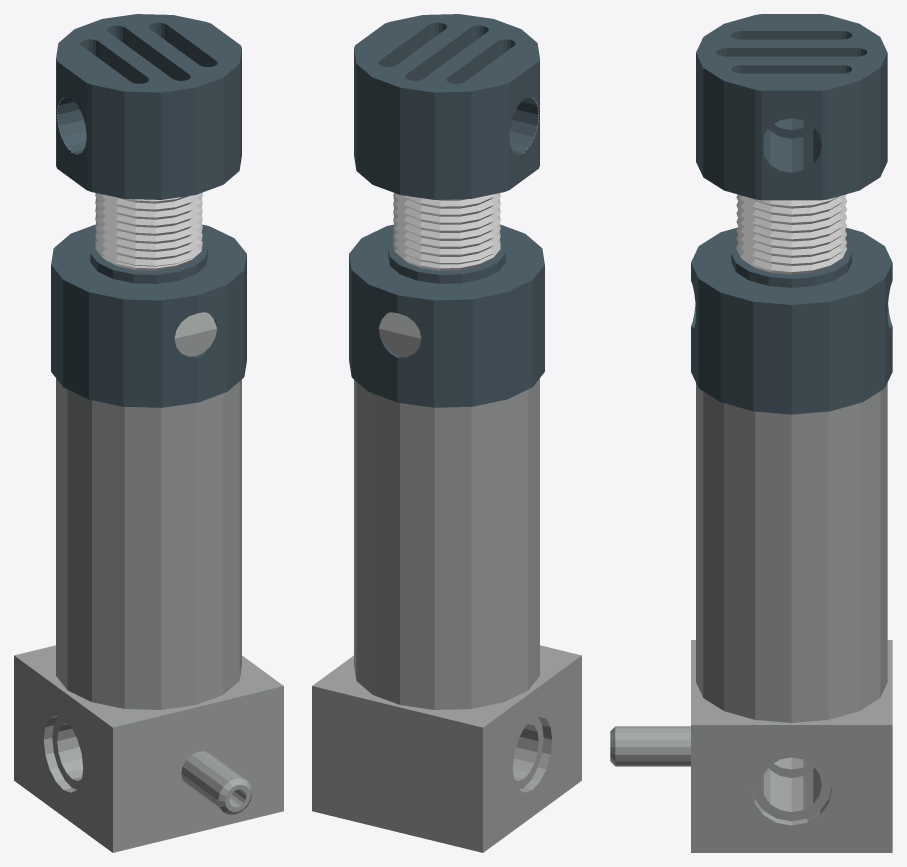
3 renders of one model, left to right at view 1: azimuth 30°, elevation 25°; view 2: azimuth 150°, elevation 25°; view 3: azimuth 270°, elevation 25°, orthographic. The views are drawn at different scales.
Visible parts, largest first — view 1: world; view 2: world; view 3: world.
Part boxes in pixels (x1,y1,x2,y2): world: (14, 14, 283, 852); world: (312, 14, 581, 852); world: (610, 14, 892, 852).
Bounding box in the file's own units: 0.016 × 0.0664 × 0.0224.
